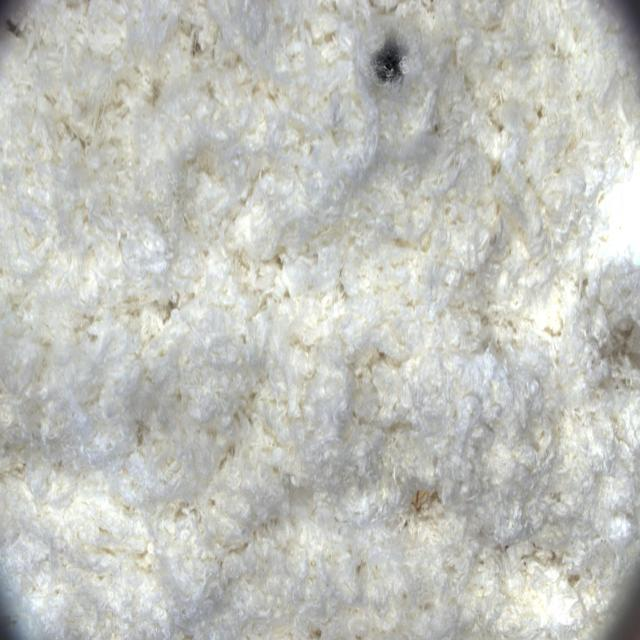dust: (359, 13, 425, 117)
